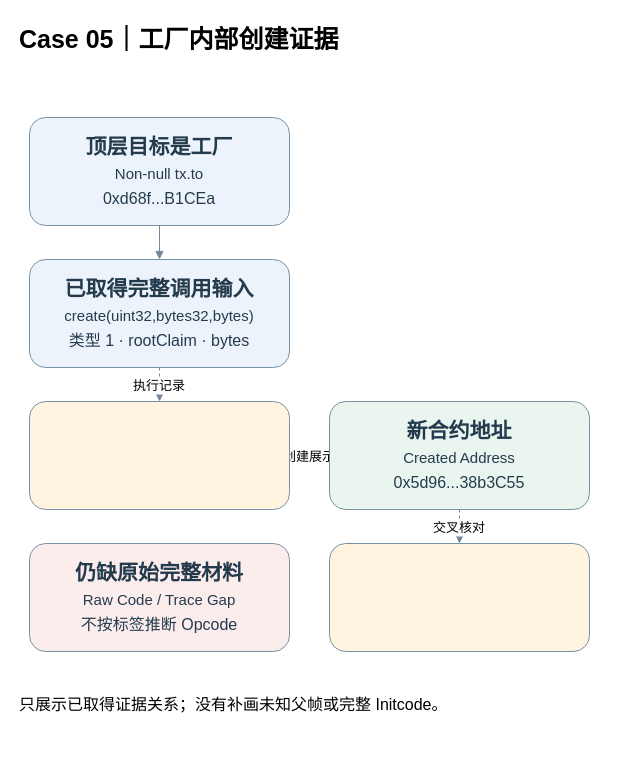
The diagram is 618 pixels wide and 775 high, and some of its shapes have lost their labels. Here are the shapes that lost their labels. From the top down, the centre of each, then its label:
At pixel 159 455: "过滤后的创建展示 create_0_1_1 路径 [0,1,1]".
At pixel 459 597: "保留创建事件 DisputeGameCreated Log 145 地址/参数一致".
